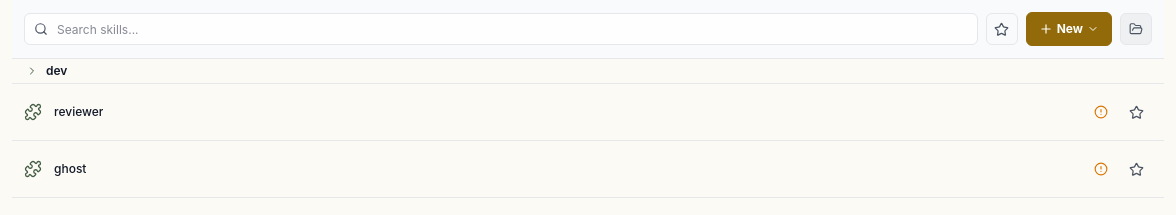
LibraryList › surfaces a starred entry inside a collapsed (default-state) folder as a flat row with a path subtitle
Click the button with test id "library-star-filter". click: {"x": 1002, "y": 29}
box: [986,13,1018,45]
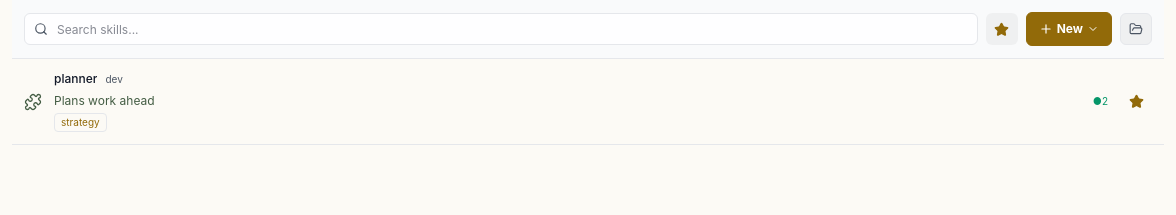
expect the text with test id "library-row-subtitle-skills/dev/planner" reads "dev": met, box [105,72,123,84]
expect the button with test id "library-row-skills/dev/planner" is shown: met, box [12,59,1164,145]
expect the button with test id "library-row-skills/reviewer" is gone: met
